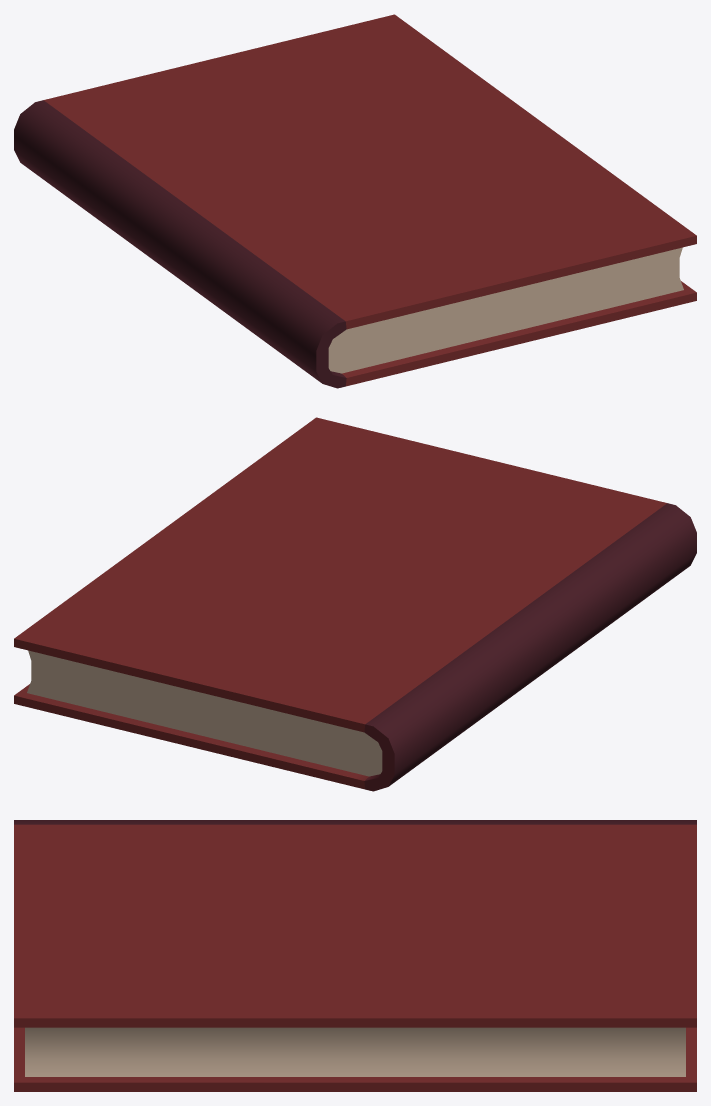
File: Book_05.fbx
The picture shows the model from 3 angles, top to bottom: view 1: azimuth 30°, elevation 25°; view 2: azimuth 150°, elevation 25°; view 3: azimuth 270°, elevation 25°; orthographic projection. The views are drawn at different scales.
Visible parts, largest first — view 1: Book_05; view 2: Book_05; view 3: Book_05.
Part boxes in pixels (x1=…): Book_05: x1=14, y1=14, x2=696, y2=388; Book_05: x1=14, y1=417, x2=696, y2=791; Book_05: x1=14, y1=820, x2=696, y2=1091.
Size of the model in its own units: 0.2383 by 0.039 by 0.3277.
